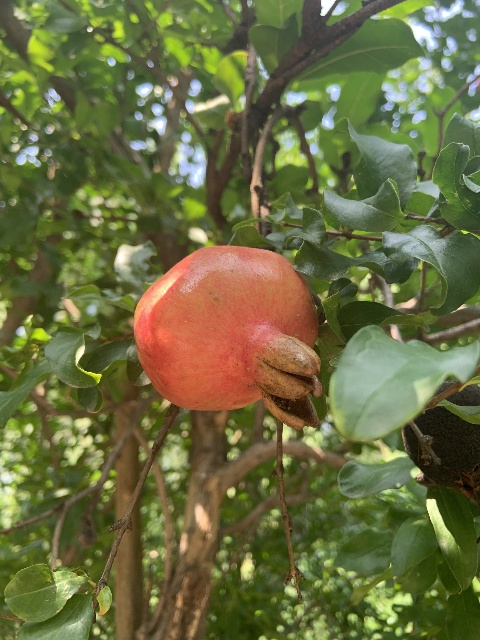ripe: (133, 245, 322, 426)
